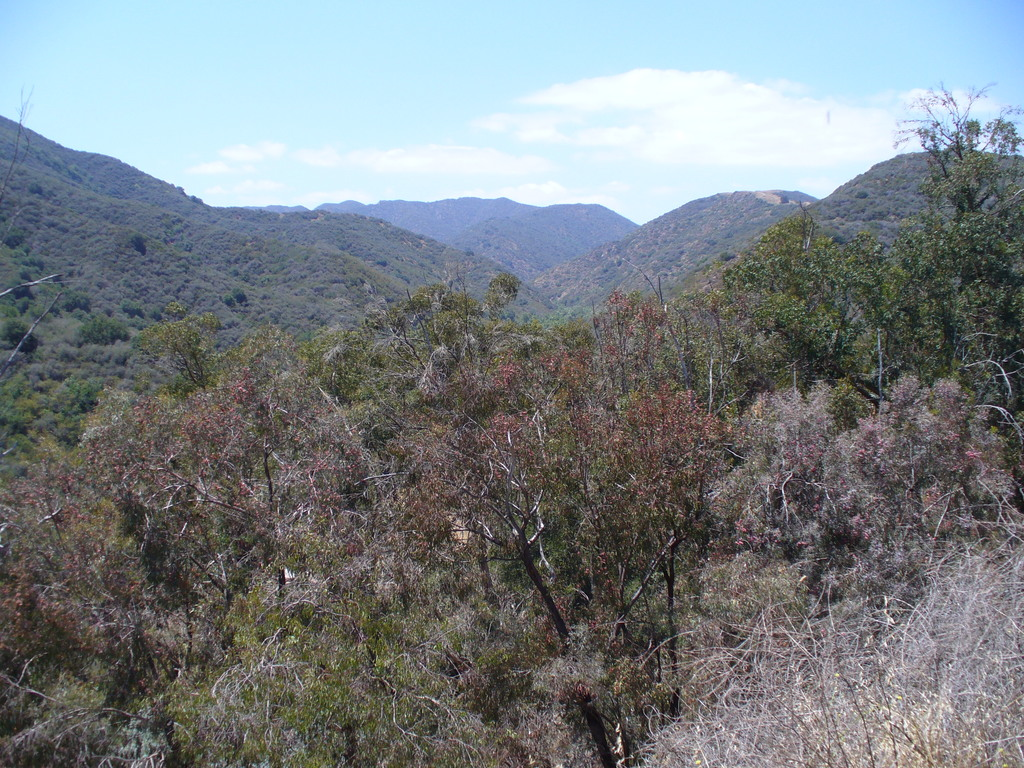Tree: (0, 76, 1023, 768)
